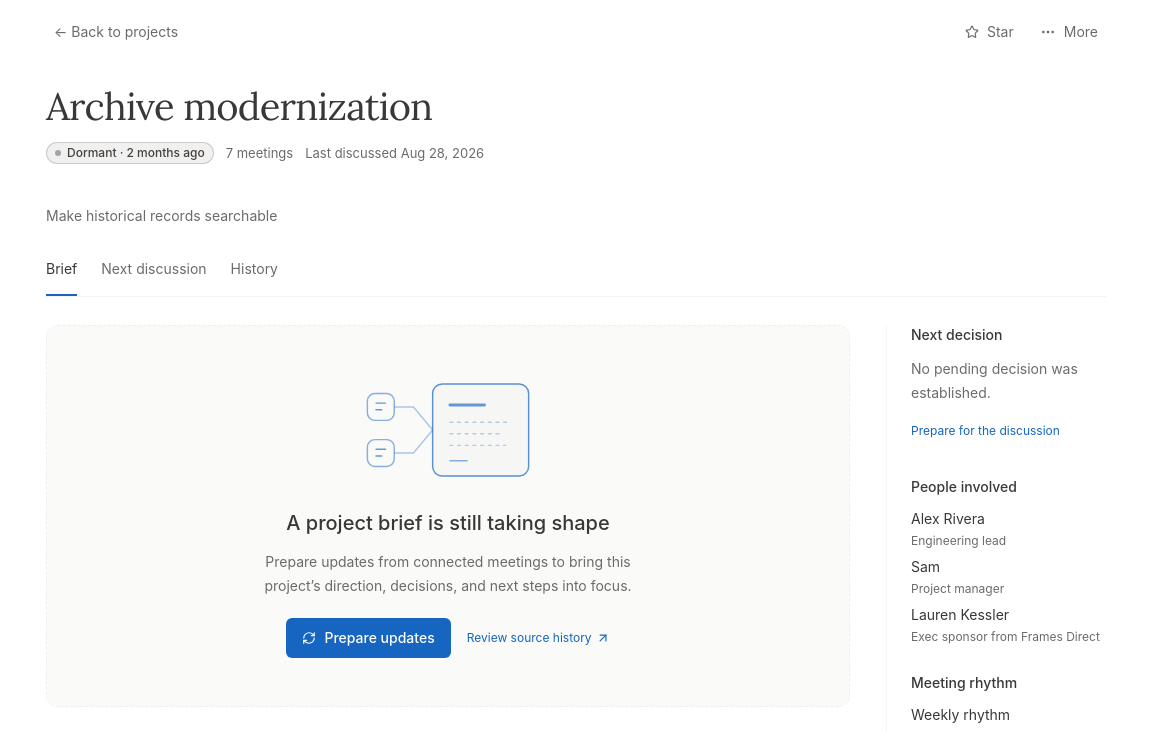
Test: prepares updates directly from the empty brief and keeps its result honest
Later steps or results of the test are not shown.
Expected: the 3rd icon is shown, [352,374,544,486]
Click the button "Prepare updates" at (369, 638), box [286,618,451,658]
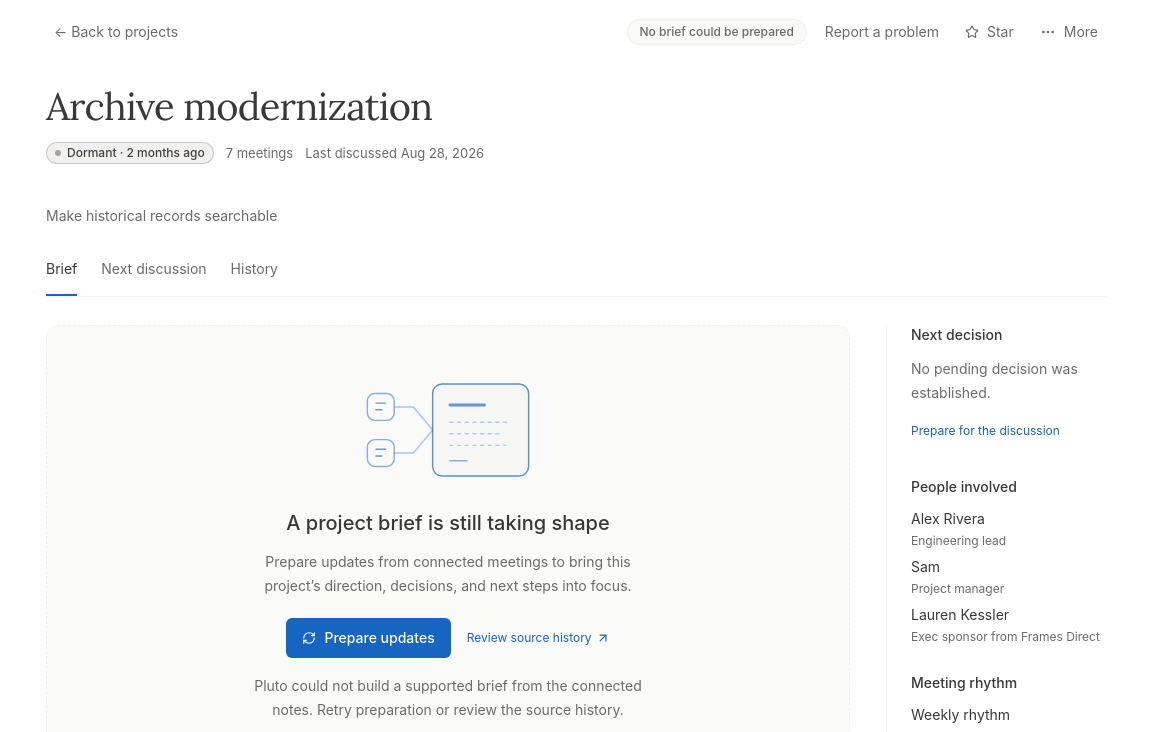
Expected: the message shows "Pluto could not build a supported brief", [254,676,642,718]
